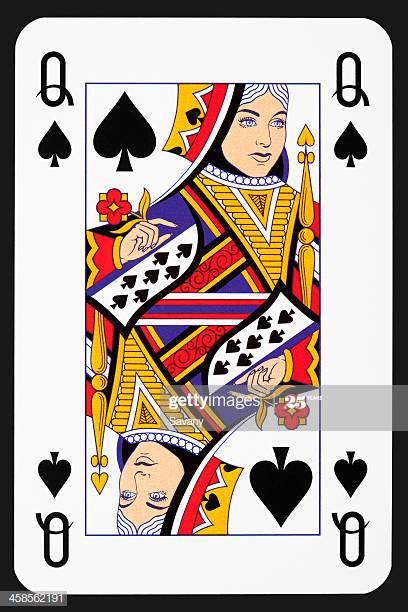queen of spades: (14, 16, 391, 593)
